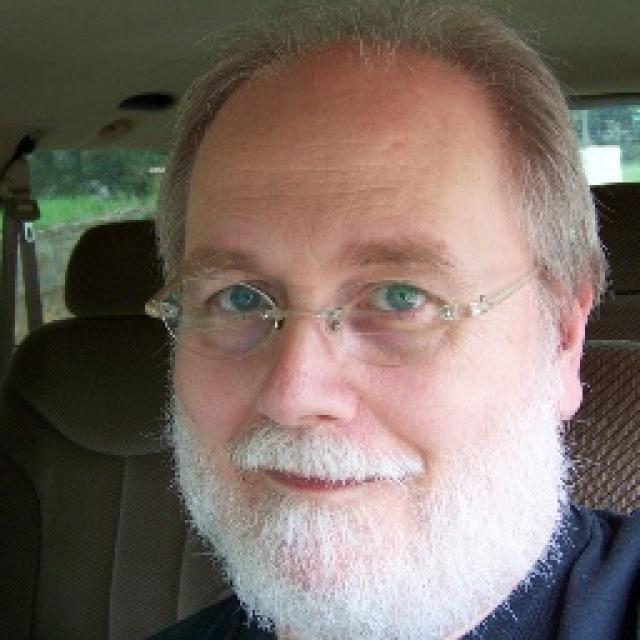earlobe: (552, 356, 587, 417)
eye: (350, 277, 438, 317), (206, 280, 279, 320)
nose: (259, 414, 353, 450)
wholeear: (552, 267, 598, 417)
